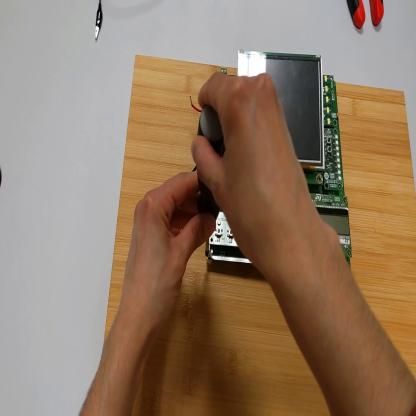hand: (193, 70, 312, 261), (121, 169, 217, 335)
low voltage board: (191, 50, 354, 264)
pliers: (348, 1, 386, 33)
screwdriver-: (199, 103, 227, 258)
working area: (104, 54, 416, 416)
